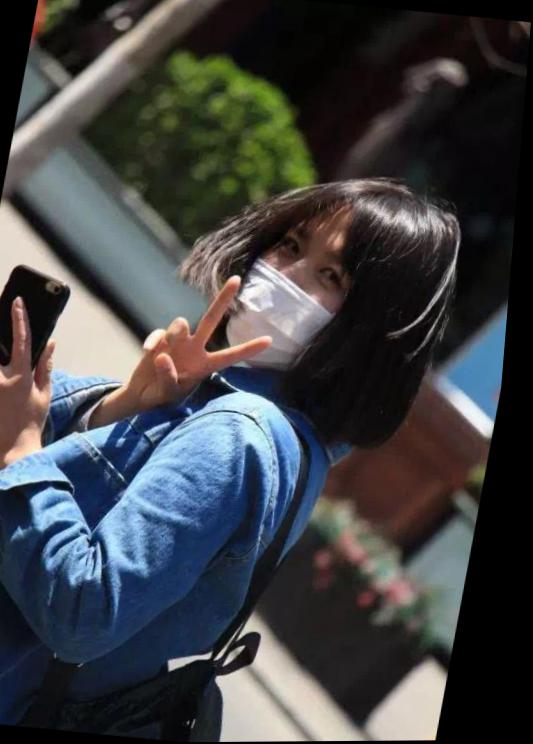WRONG: (221, 216, 379, 381)
